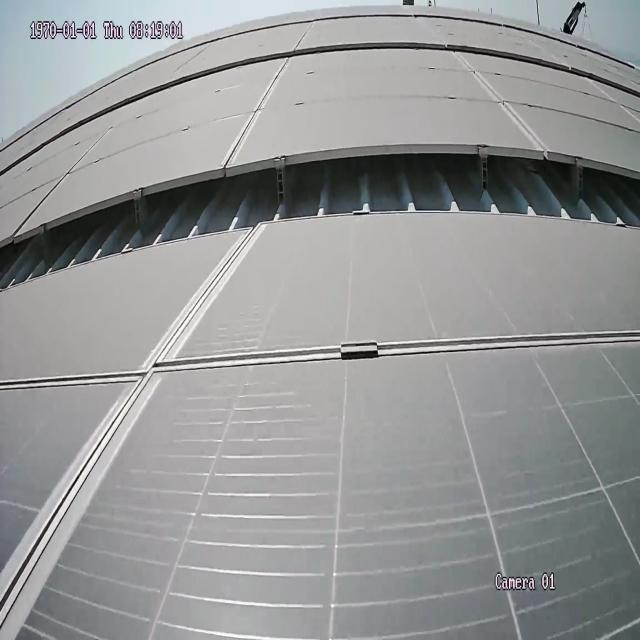interior panel: (1, 389, 154, 636), (173, 327, 634, 377), (141, 242, 253, 361), (458, 57, 544, 139), (18, 140, 96, 222), (222, 68, 288, 157), (6, 368, 130, 394)
outher panel: (2, 150, 640, 284)
